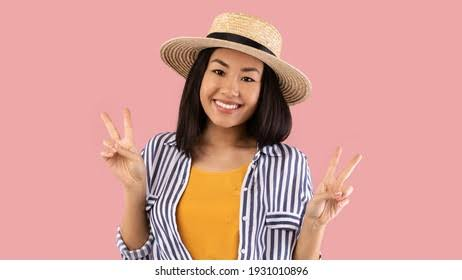peace_sign: (94, 105, 150, 183)
